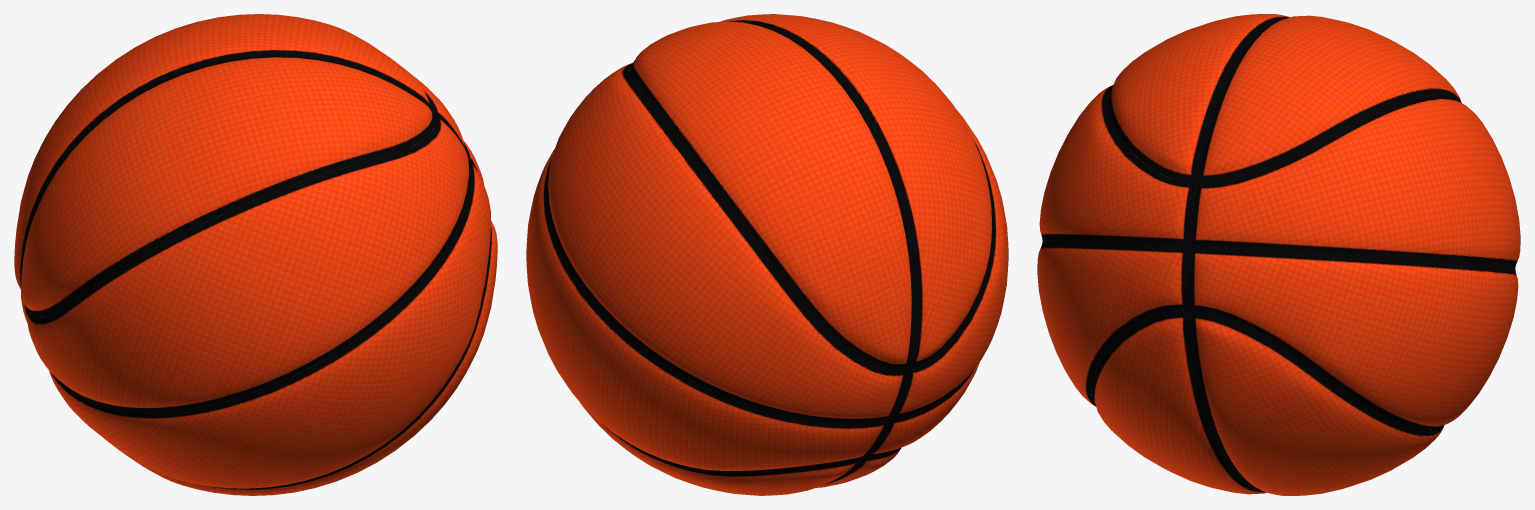
Rendered from Ball.glb.
The picture shows the model from 3 angles, left to right: view 1: azimuth 30°, elevation 25°; view 2: azimuth 150°, elevation 25°; view 3: azimuth 270°, elevation 25°; orthographic projection.
Parts seen in each view (by area): view 1: Ball; view 2: Ball; view 3: Ball.
Boxes of the visible parts, box(x1,y1,x2,y2) form: Ball: box(14, 14, 497, 495); Ball: box(526, 14, 1008, 495); Ball: box(1037, 14, 1520, 495).
Size of the model in its own units: 0.2405 by 0.2403 by 0.2398.
1 material, 1 textured.
